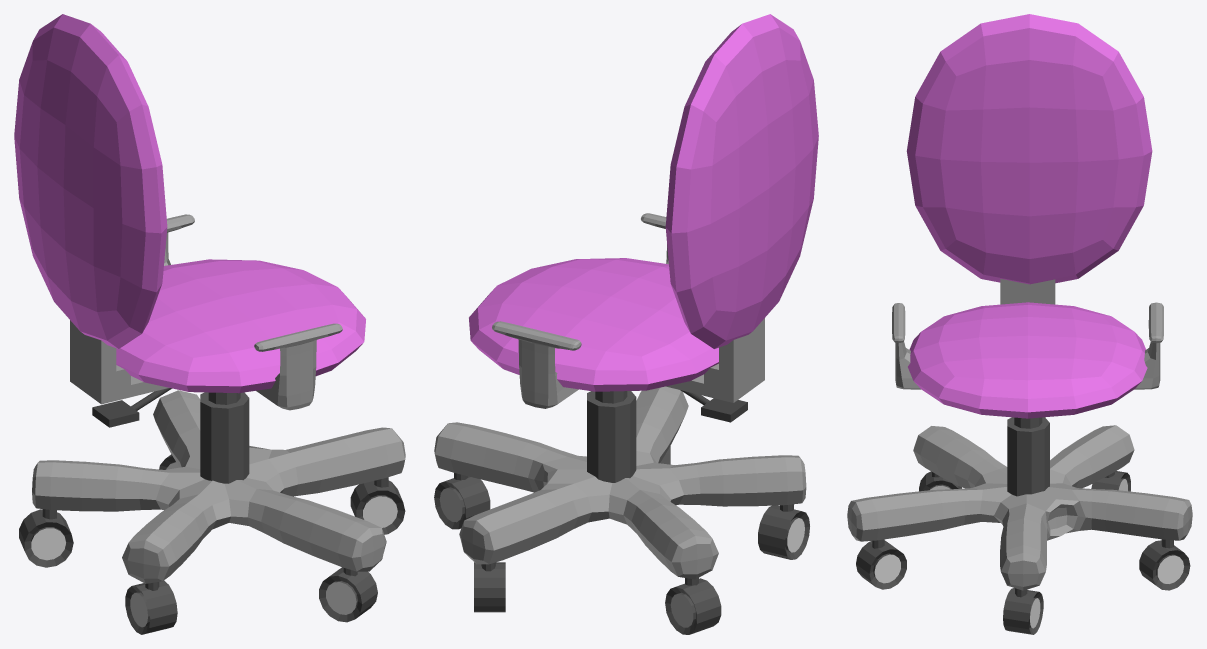
3 renders of one model, left to right at view 1: azimuth 30°, elevation 25°; view 2: azimuth 150°, elevation 25°; view 3: azimuth 270°, elevation 25°, orthographic. The views are drawn at different scales.
Parts seen in each view (by area): view 1: Cube.005; view 2: Cube.005; view 3: Cube.005.
Boxes of the visible parts, box(x1,y1,x2,y2) form: Cube.005: box(14, 14, 405, 634); Cube.005: box(434, 14, 818, 634); Cube.005: box(847, 14, 1192, 634).
Size of the model in its own units: 230 by 375 by 236.
